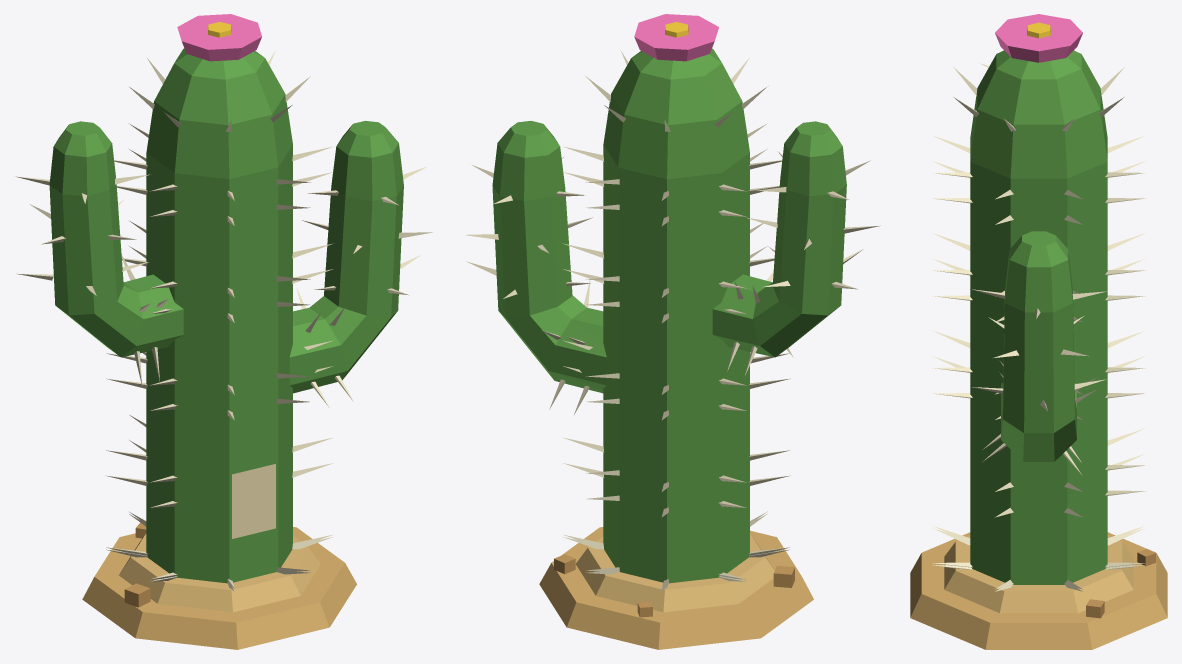
The model's file is w4_gathering.fbx.
3 views of the same model, side by side, from view 1: azimuth 30°, elevation 25°; view 2: azimuth 150°, elevation 25°; view 3: azimuth 270°, elevation 25° (orthographic).
Parts seen in each view (by area): view 1: Saguaro.Body, DigPile.Mound, Saguaro.Spines, DigPile.MoundMid, Saguaro.Flower, Saguaro.Fresh, SaguaroStump.Body, DigPile.Pebbles; view 2: Saguaro.Body, DigPile.Mound, Saguaro.Spines, DigPile.MoundMid, SaguaroStump.Body, Saguaro.Flower, DigPile.Pebbles; view 3: Saguaro.Body, DigPile.Mound, Saguaro.Spines, DigPile.MoundMid, Saguaro.Flower, SaguaroStump.Body, DigPile.Pebbles, SaguaroStump.Spines.
Part boxes in pixels (x1,y1,x2,y2): Saguaro.Body: (49,48,403,582); DigPile.Mound: (82,527,356,649); Saguaro.Spines: (16,50,432,588); DigPile.MoundMid: (119,533,320,612); Saguaro.Flower: (177,14,261,61); Saguaro.Fresh: (232,464,275,538); SaguaroStump.Body: (146,527,279,583); DigPile.Pebbles: (124,522,150,607); Saguaro.Body: (492,48,846,582); DigPile.Mound: (539,527,813,649); Saguaro.Spines: (465,50,880,588); DigPile.MoundMid: (576,533,774,612); SaguaroStump.Body: (604,534,739,583); Saguaro.Flower: (634,14,718,61); DigPile.Pebbles: (554,554,794,617); Saguaro.Body: (970,50,1107,584); DigPile.Mound: (910,532,1167,649); Saguaro.Spines: (932,63,1145,589); DigPile.MoundMid: (944,535,1133,613); Saguaro.Flower: (995,14,1082,62); SaguaroStump.Body: (1055,538,1107,582); DigPile.Pebbles: (1086,549,1155,618); SaguaroStump.Spines: (932,528,1145,591).
Size of the model in its own units: 9.08 by 12.32 by 5.03.
